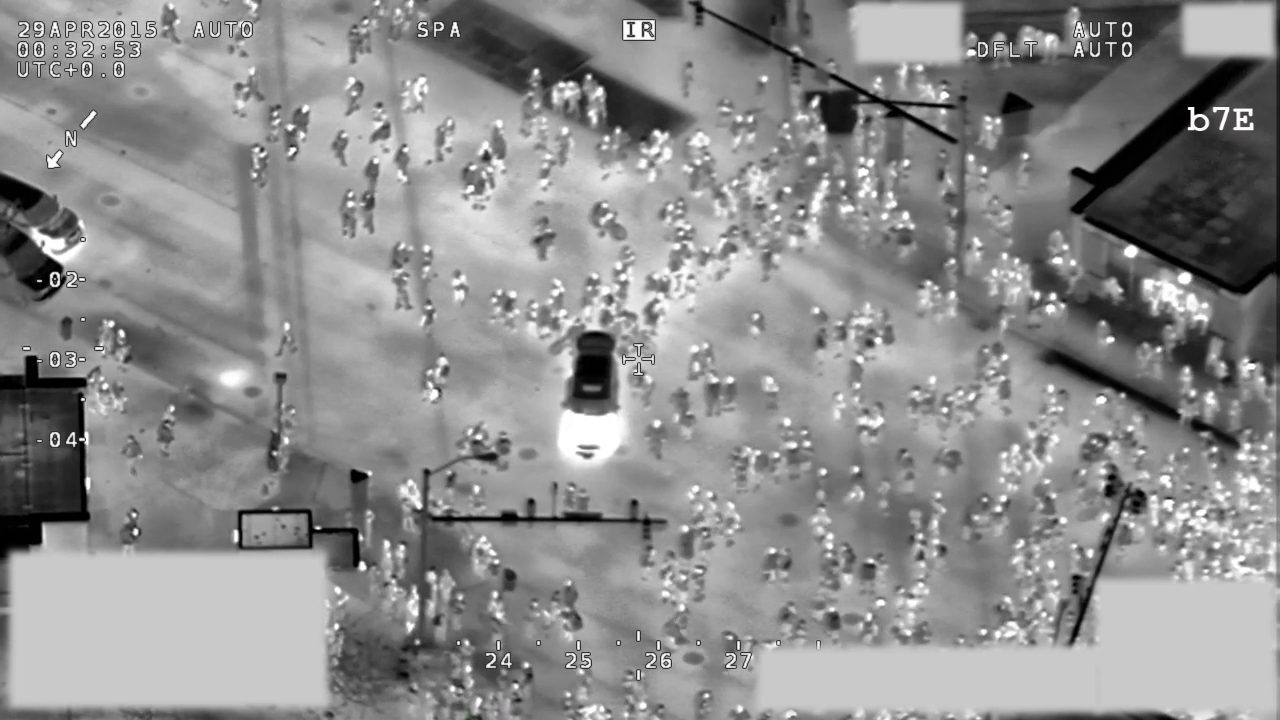vehicle: (556, 326, 628, 466)
